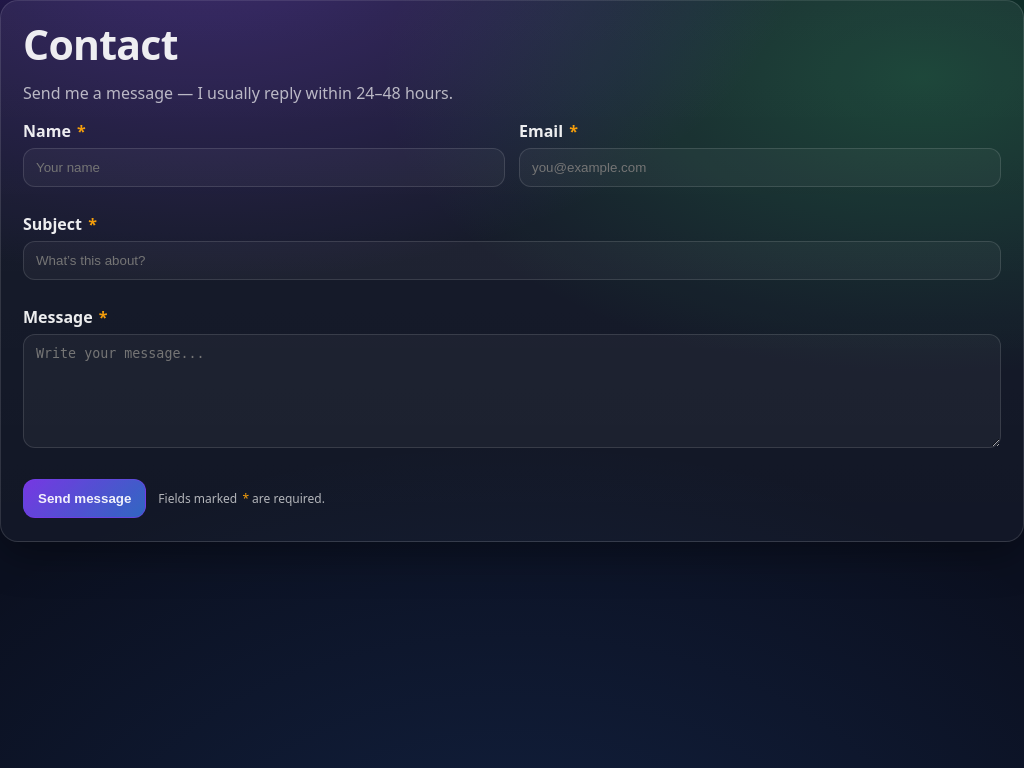
Scenario: Contact page (form validation) › rejects invalid name + invalid email format
Type "1234" into the field labelled "Name *" at (264, 168), box [23,148,505,187]
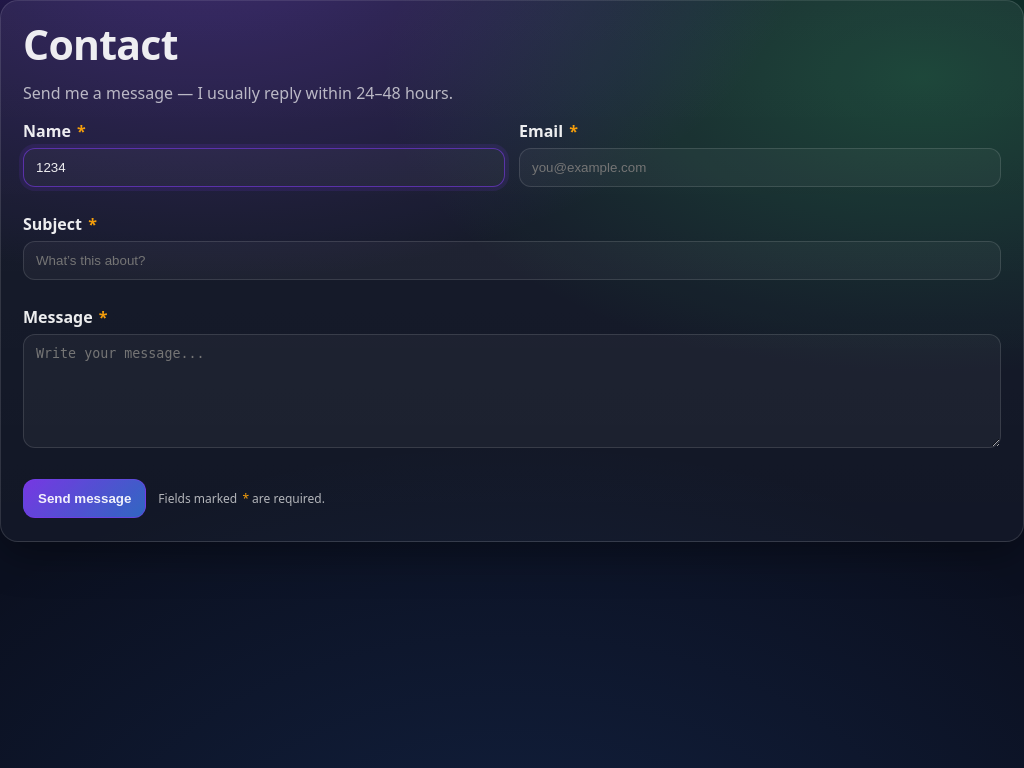
Type "not-an-email" into the field labelled "Email *" at (760, 168), box [519,148,1001,187]
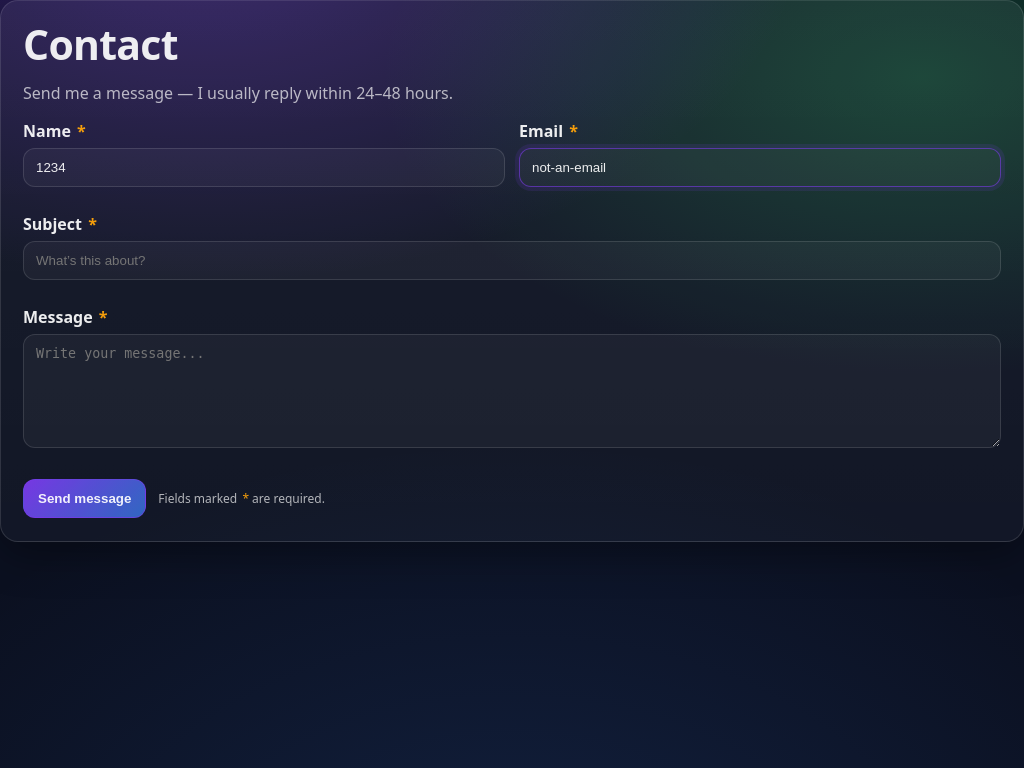
Type "Hi" into the field labelled "Subject *" at (512, 260), box [23,241,1001,280]
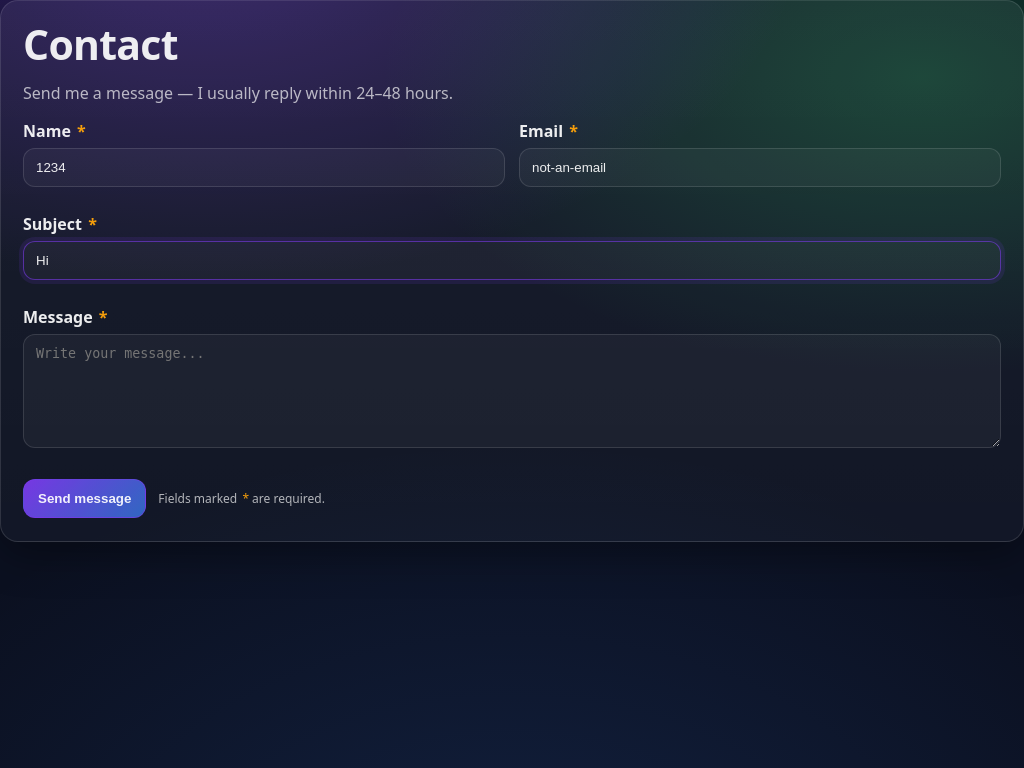
Type "Hello there!!!" into the text box labelled "Message *" at (512, 391), box [23,334,1001,448]
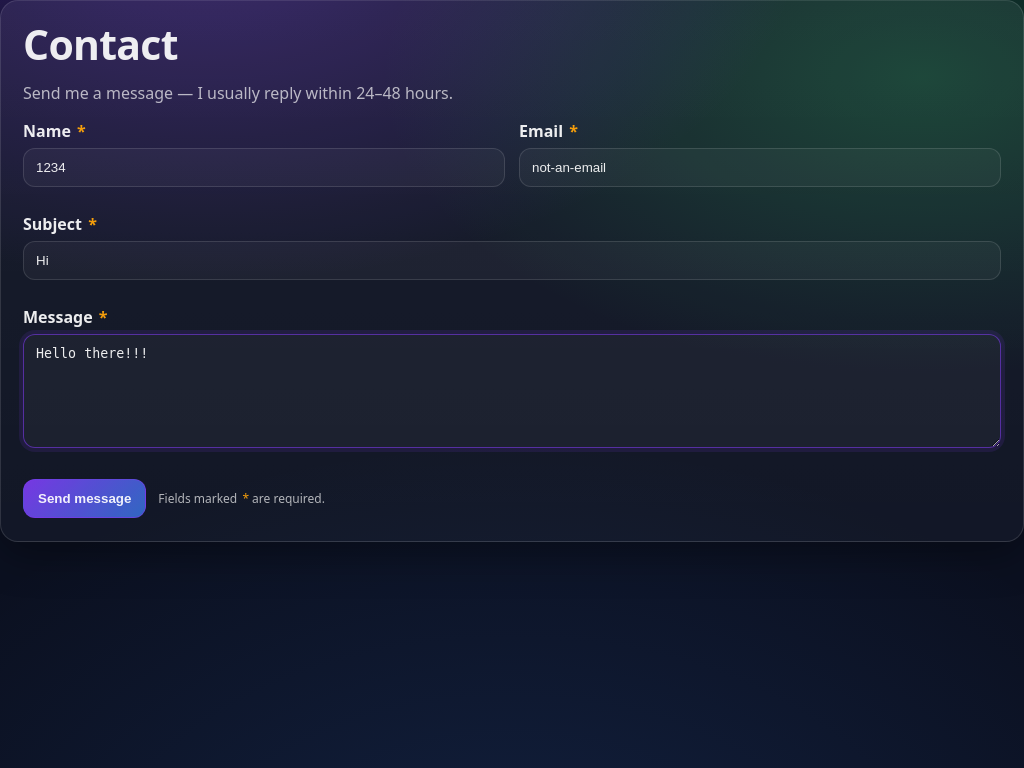
Click the button "Send message" at (85, 498), box [23,479,146,518]
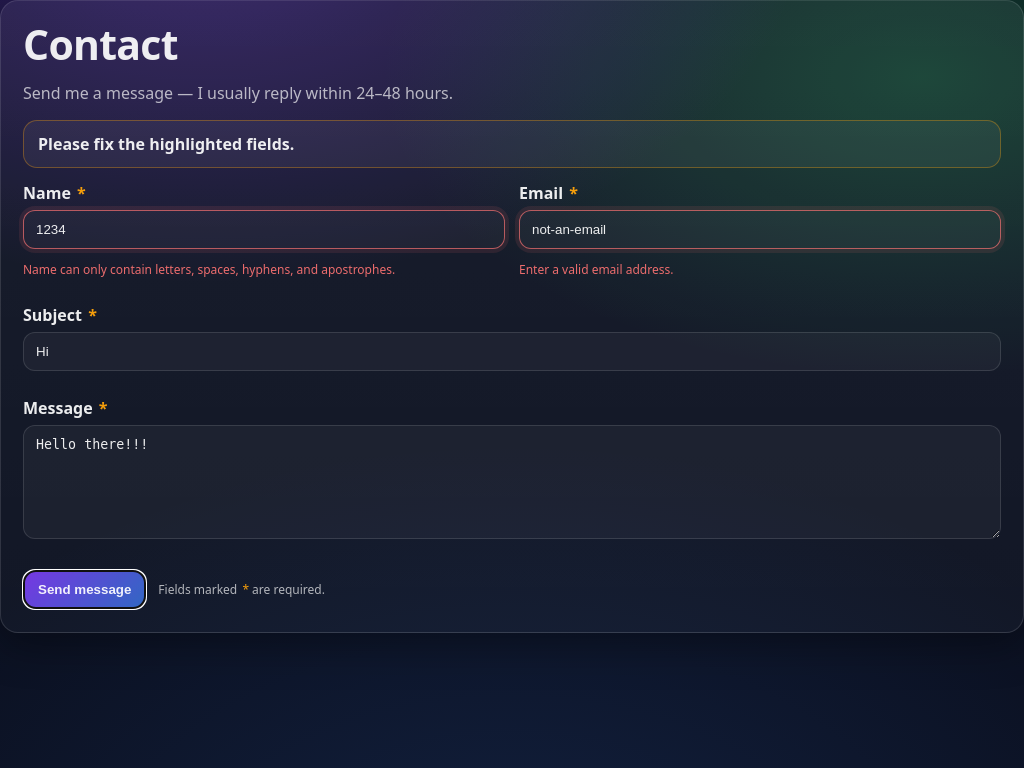
Now the text "Name can only contain letters" is shown, box [23,261,395,278]
Now the text "Enter a valid email address." is shown, box [519,261,673,278]
